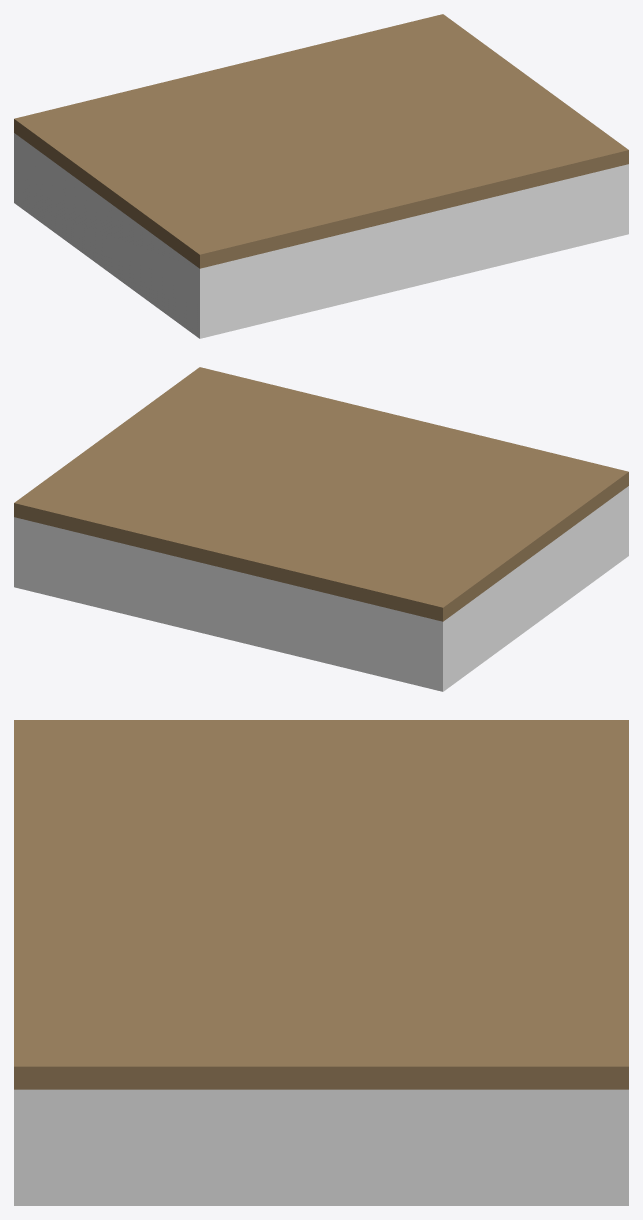
File: documents.gltf
3 renders of one model, top to bottom at view 1: azimuth 30°, elevation 25°; view 2: azimuth 150°, elevation 25°; view 3: azimuth 270°, elevation 25°, orthographic. The views are drawn at different scales.
Parts seen in each view (by area): view 1: documents; view 2: documents; view 3: documents.
Part boxes in pixels (x1,y1,x2,y2): documents: [14, 14, 628, 338]; documents: [14, 367, 628, 691]; documents: [14, 720, 628, 1205].
Bounding box in the file's own units: 0.32 × 0.06 × 0.24.
